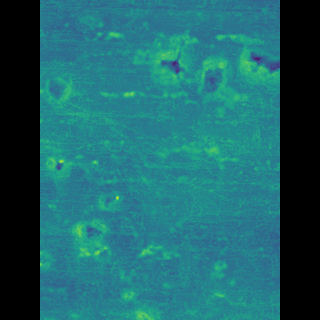Loch: (124, 19, 251, 114), (94, 217, 128, 265), (74, 74, 94, 104), (112, 189, 136, 213), (74, 150, 91, 179), (69, 248, 82, 270)
